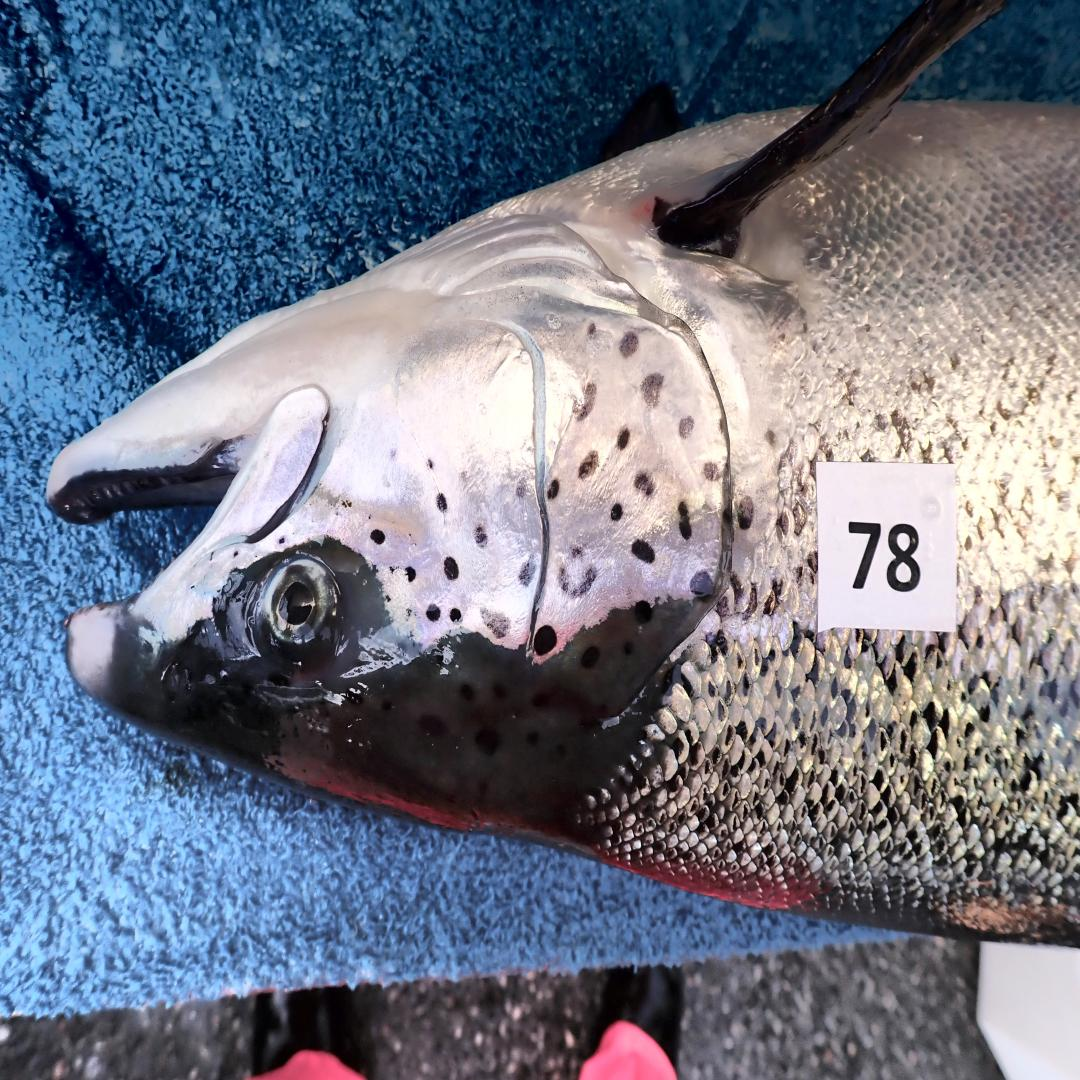spot: (558, 565, 596, 599), (570, 383, 597, 421), (480, 608, 510, 638), (641, 372, 664, 408), (534, 624, 557, 655), (689, 570, 714, 598), (578, 450, 599, 481), (677, 501, 692, 540), (631, 539, 656, 562), (518, 559, 536, 587), (635, 472, 654, 498), (620, 332, 639, 357), (633, 602, 652, 624), (444, 557, 460, 580), (679, 416, 694, 439), (472, 524, 487, 547), (703, 462, 718, 482), (617, 428, 631, 449), (369, 529, 386, 546), (546, 478, 559, 500), (426, 605, 441, 622), (516, 477, 528, 498), (435, 492, 447, 512), (611, 503, 622, 521), (571, 544, 583, 560), (404, 566, 416, 582), (449, 608, 462, 622), (587, 322, 596, 337), (428, 460, 433, 469), (341, 501, 347, 508), (346, 501, 351, 507)
